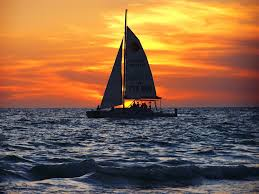boat: (86, 9, 179, 118)
